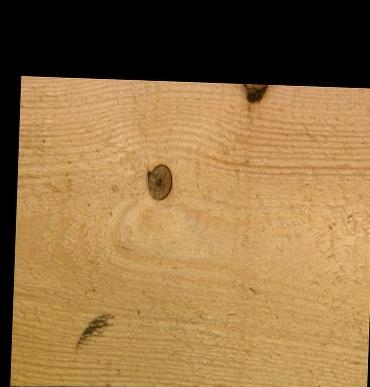dry_knot: (144, 161, 172, 200)
edge_knot: (239, 82, 268, 104)
